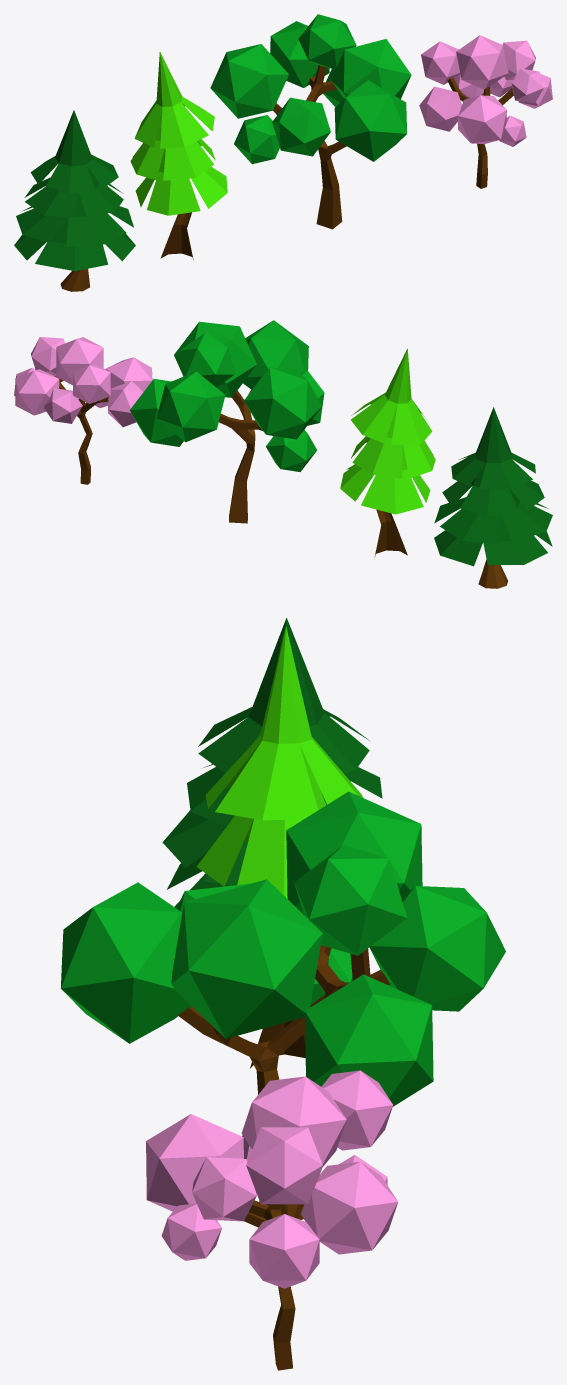
File: map-design.fbx
The picture shows the model from 3 angles, top to bottom: view 1: azimuth 30°, elevation 25°; view 2: azimuth 150°, elevation 25°; view 3: azimuth 270°, elevation 25°; orthographic projection. The views are drawn at different scales.
Visible parts, largest first — view 1: Icosphere, листва, Icosphere.001, Tree #2, Tree #3, Tree #4, Tree #1; view 2: Icosphere, листва, Tree #2, Icosphere.001, Tree #3, Tree #4, Tree #1; view 3: Icosphere, Icosphere.001, Tree #2, листва, Tree #3, Tree #4.
Part boxes in pixels (left/top/right/bottom): Icosphere: left=210, top=14, right=411, bottom=164; листва: left=14, top=110, right=135, bottom=271; Icosphere.001: left=419, top=35, right=552, bottom=146; Tree #2: left=130, top=52, right=227, bottom=260; Tree #3: left=273, top=65, right=346, bottom=229; Tree #4: left=447, top=77, right=513, bottom=188; Tree #1: left=60, top=268, right=89, bottom=291; Icosphere: left=129, top=320, right=324, bottom=472; листва: left=434, top=407, right=552, bottom=566; Tree #2: left=340, top=348, right=435, bottom=556; Icosphere.001: left=14, top=337, right=152, bottom=427; Tree #3: left=219, top=389, right=273, bottom=523; Tree #4: left=55, top=376, right=108, bottom=484; Tree #1: left=478, top=559, right=507, bottom=588; Icosphere: left=61, top=791, right=505, bottom=1106; Icosphere.001: left=146, top=1070, right=397, bottom=1288; Tree #2: left=196, top=626, right=362, bottom=1068; листва: left=162, top=618, right=382, bottom=908; Tree #3: left=177, top=945, right=390, bottom=1219; Tree #4: left=244, top=1200, right=302, bottom=1370.
Bounding box in the file's own units: 1343 × 520 × 490.
